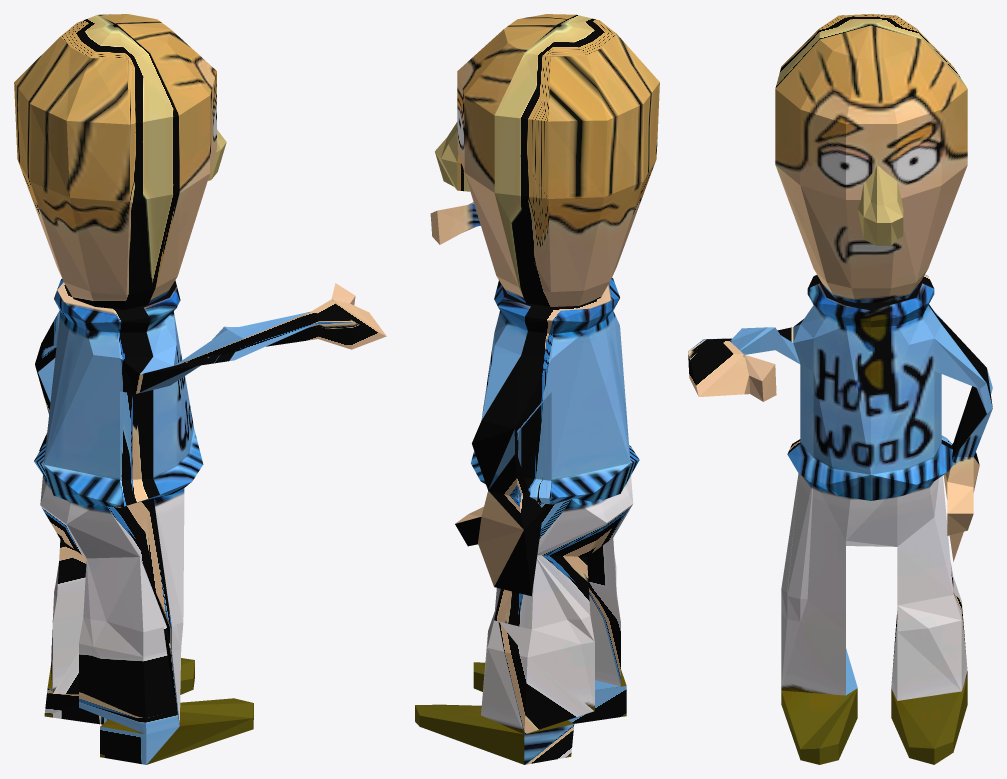
The model's file is PipPhoto.glb.
3 views of the same model, side by side, from view 1: azimuth 30°, elevation 25°; view 2: azimuth 150°, elevation 25°; view 3: azimuth 270°, elevation 25° (orthographic). The views are drawn at different scales.
Visible parts, largest first — view 1: PipPhoto; view 2: PipPhoto; view 3: PipPhoto.
Part boxes in pixels (left/top/right/bottom): PipPhoto: left=14, top=14, right=386, bottom=764; PipPhoto: left=415, top=14, right=659, bottom=764; PipPhoto: left=688, top=14, right=992, bottom=764.
Size of the model in its own units: 46.88 by 116 by 46.2.
Materials: 1 (1 with a texture image).
